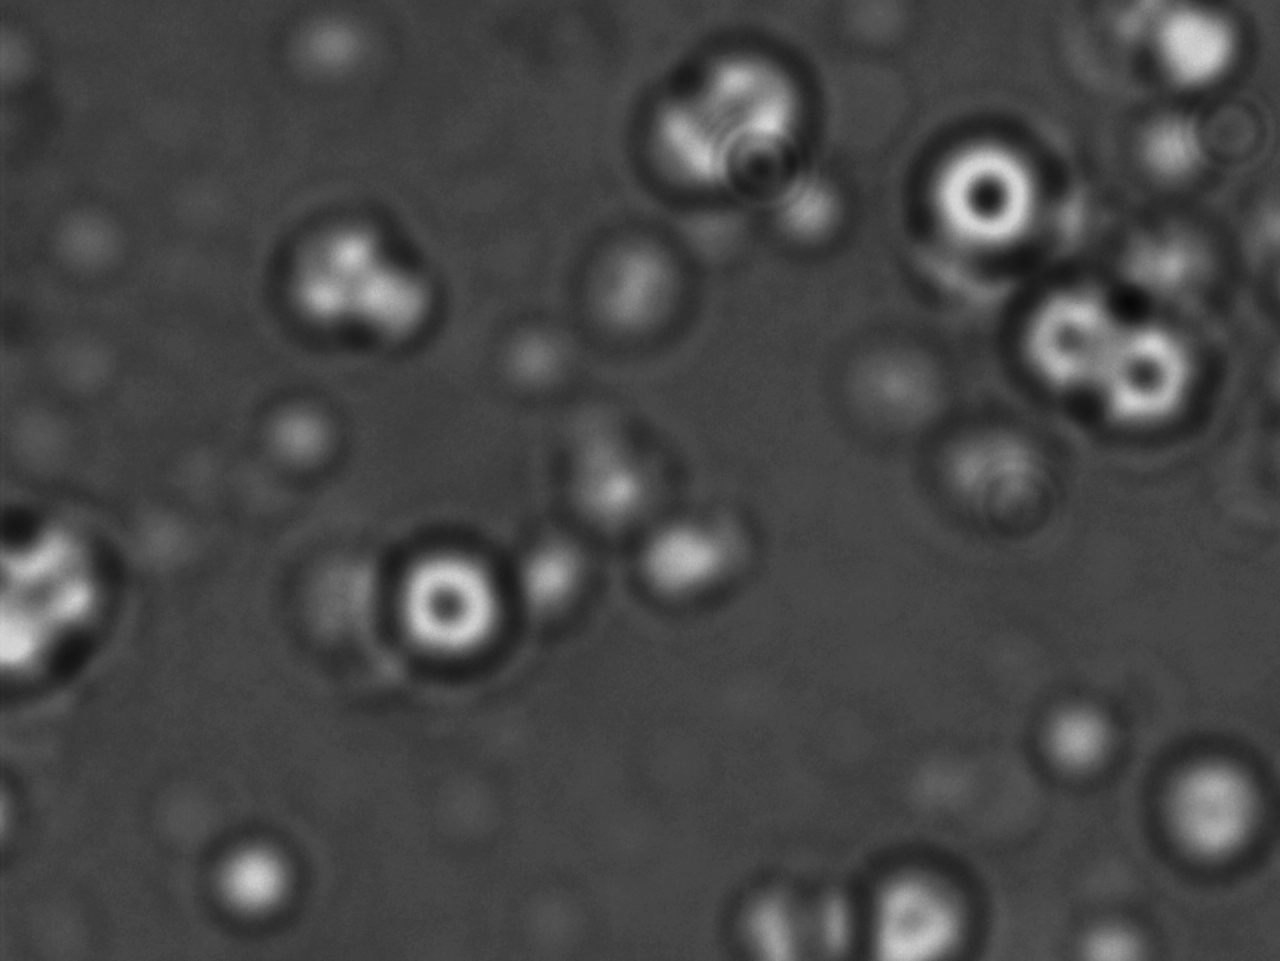depth:32: (909, 116, 1063, 265), (984, 256, 1126, 418), (378, 528, 520, 680), (1090, 317, 1223, 447)
